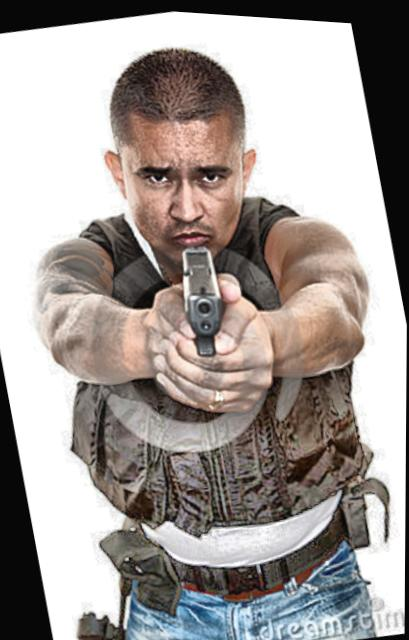pistol: (170, 236, 234, 360)
